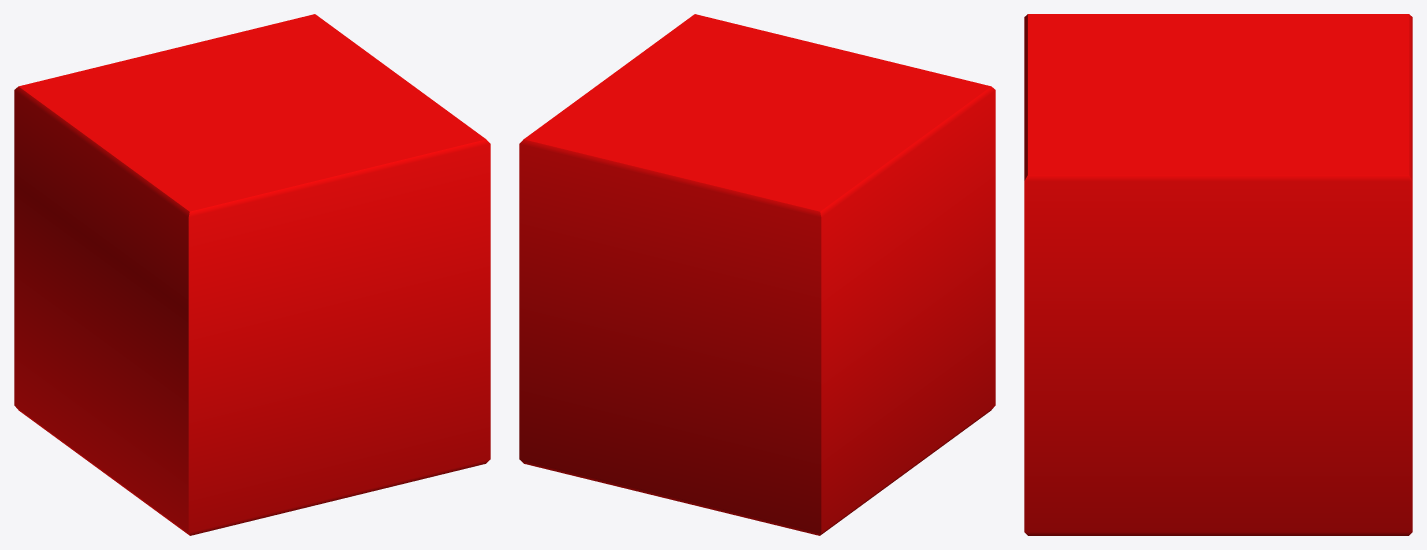
File: SM_Evidence_Box_2.FBX
The picture shows the model from 3 angles, left to right: view 1: azimuth 30°, elevation 25°; view 2: azimuth 150°, elevation 25°; view 3: azimuth 270°, elevation 25°; orthographic projection. The views are drawn at different scales.
Visible parts, largest first — view 1: Evidence_Box_2; view 2: Evidence_Box_2; view 3: Evidence_Box_2.
Boxes of the visible parts, x1,y1,x2,y2 form: Evidence_Box_2: (14, 14, 490, 535); Evidence_Box_2: (519, 14, 995, 535); Evidence_Box_2: (1024, 14, 1412, 535).
Size of the model in its own units: 24.97 by 25.62 by 24.97.
